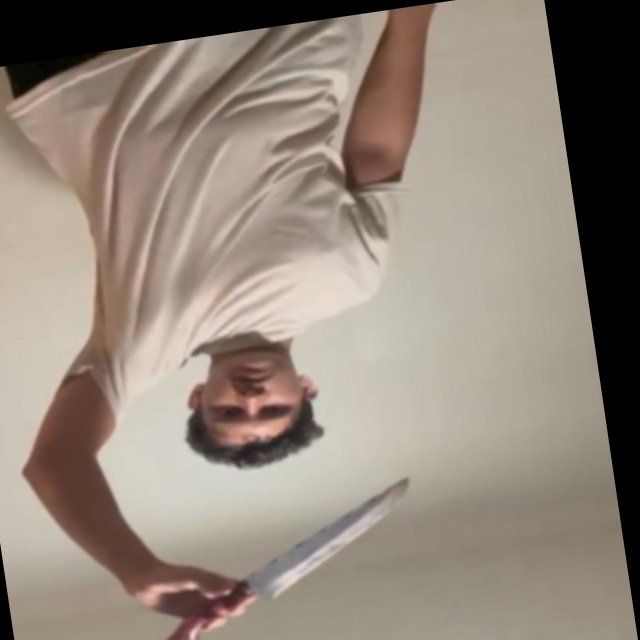Sharp-Object: (244, 478, 426, 603)
